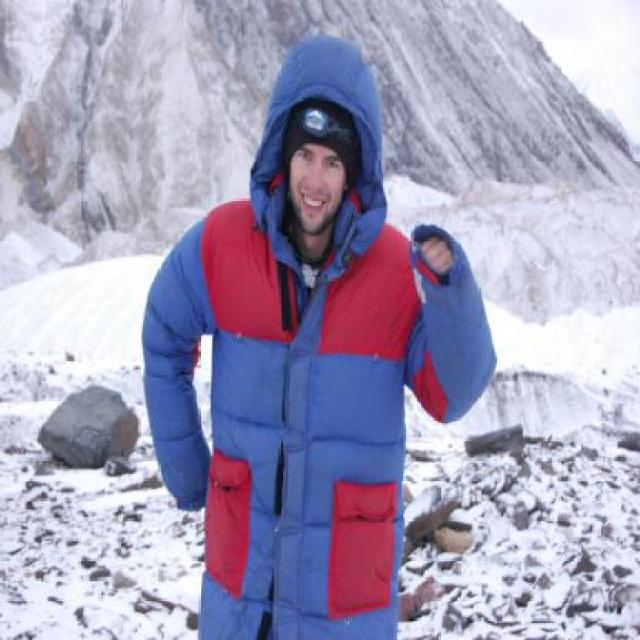Person: (138, 30, 504, 639)
